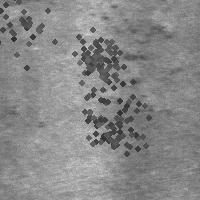rolled-in_scale: (51, 55, 159, 163), (63, 25, 131, 93), (0, 0, 63, 71), (100, 3, 175, 62), (81, 96, 147, 162), (101, 76, 155, 119), (1, 104, 48, 129)
